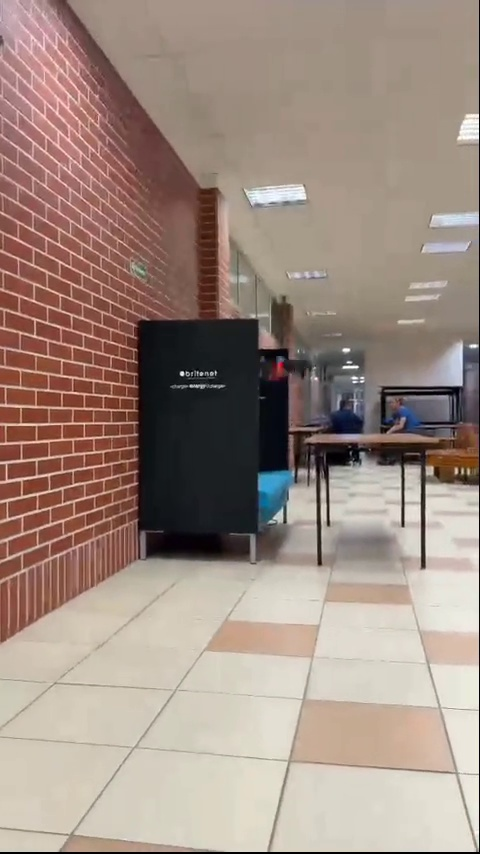drone: (255, 352, 309, 387)
no vest: (375, 389, 411, 439), (329, 386, 367, 432)
